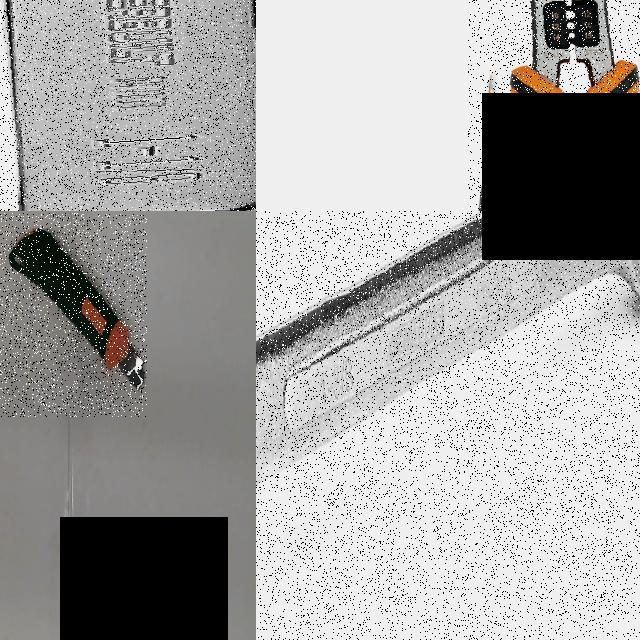estilete: (8, 228, 144, 386)
